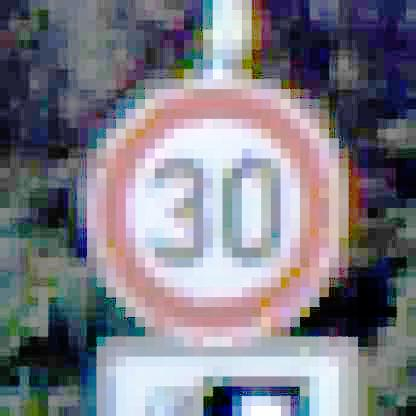Speed Limit -30-: (82, 74, 345, 340)
